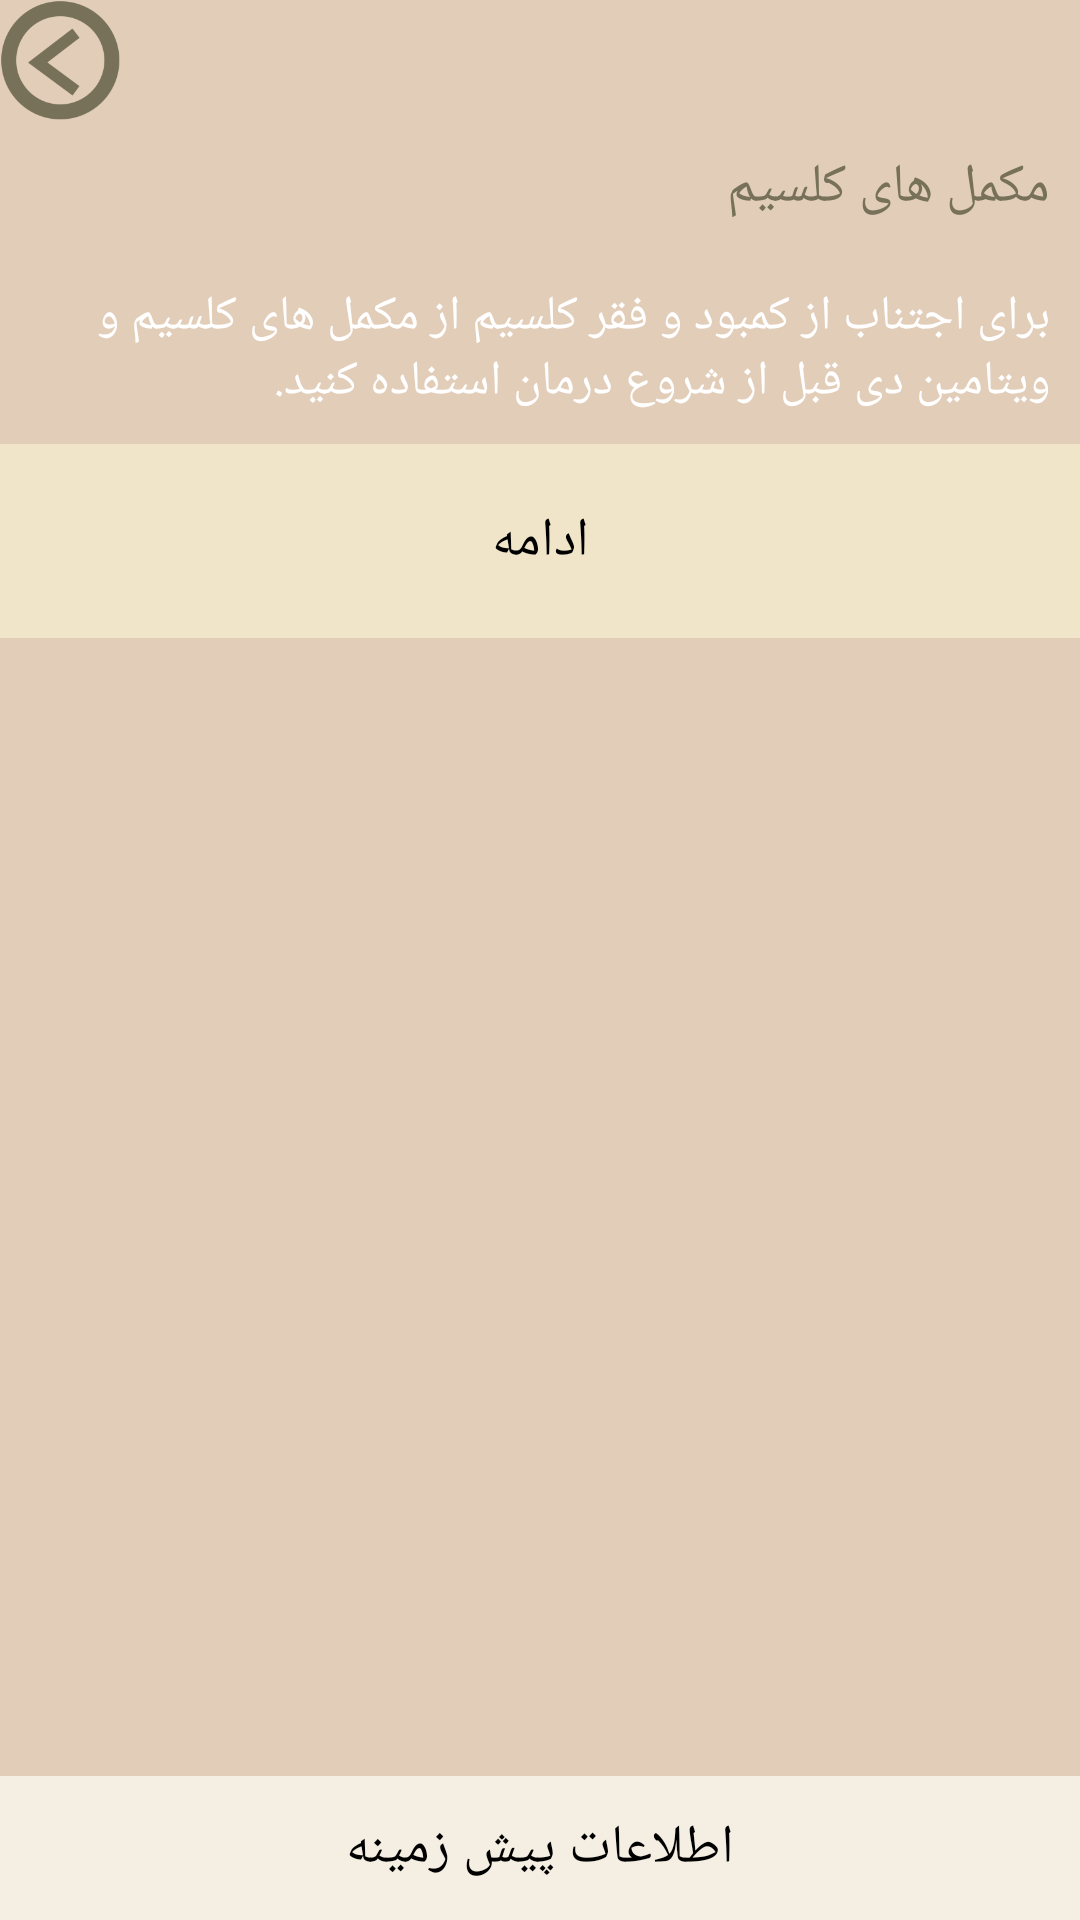

Locate icon controls on the screen. Image size 1080px x 1920px, boxes as Rect(x1, y1, x2, y2).
arrow left: Rect(1, 1, 120, 120)
